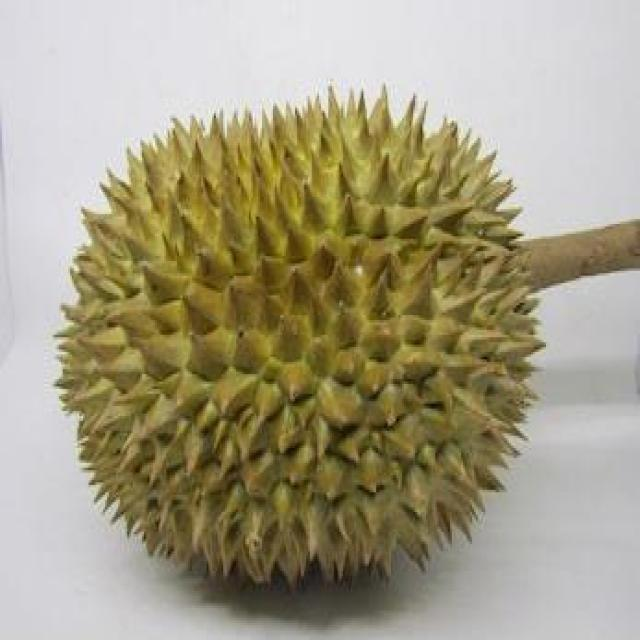immature: (49, 88, 547, 602)
